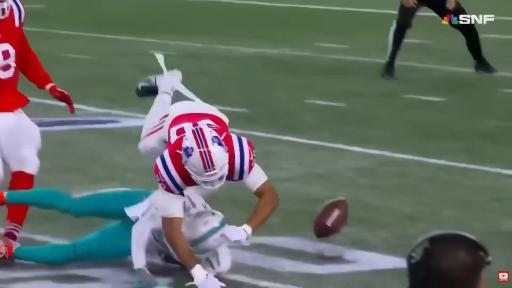Helmet: (182, 124, 228, 188), (183, 210, 227, 253), (0, 0, 10, 19)
Jersey: (154, 113, 254, 195), (0, 0, 52, 112), (125, 196, 176, 268), (154, 136, 198, 195)
Player: (139, 70, 278, 287), (0, 189, 179, 287), (0, 0, 74, 190)
